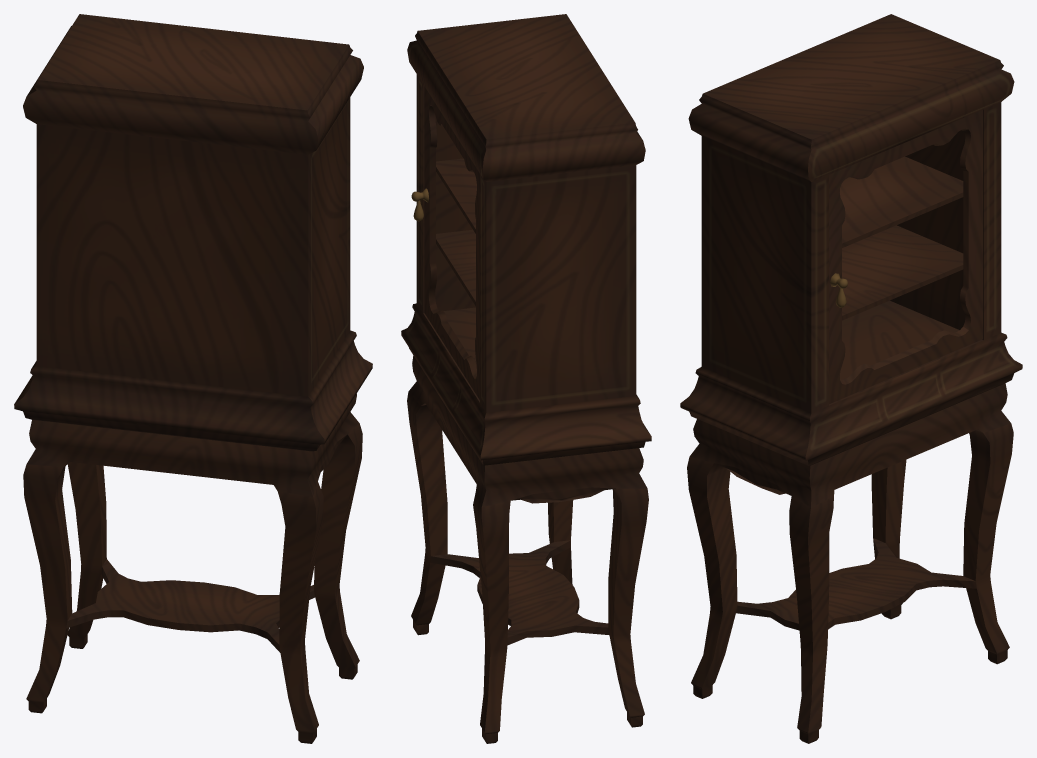
The model's file is FoyerChina.fbx.
The picture shows the model from 3 angles, left to right: view 1: azimuth 30°, elevation 25°; view 2: azimuth 150°, elevation 25°; view 3: azimuth 270°, elevation 25°; orthographic projection. The views are drawn at different scales.
Parts seen in each view (by area): view 1: polySurface9; view 2: polySurface9; view 3: polySurface9.
Part boxes in pixels (x1,y1,x2,y2): polySurface9: (14, 14, 372, 743); polySurface9: (401, 14, 651, 743); polySurface9: (680, 14, 1022, 743).
Size of the model in its own units: 33.57 by 65.13 by 33.57.
